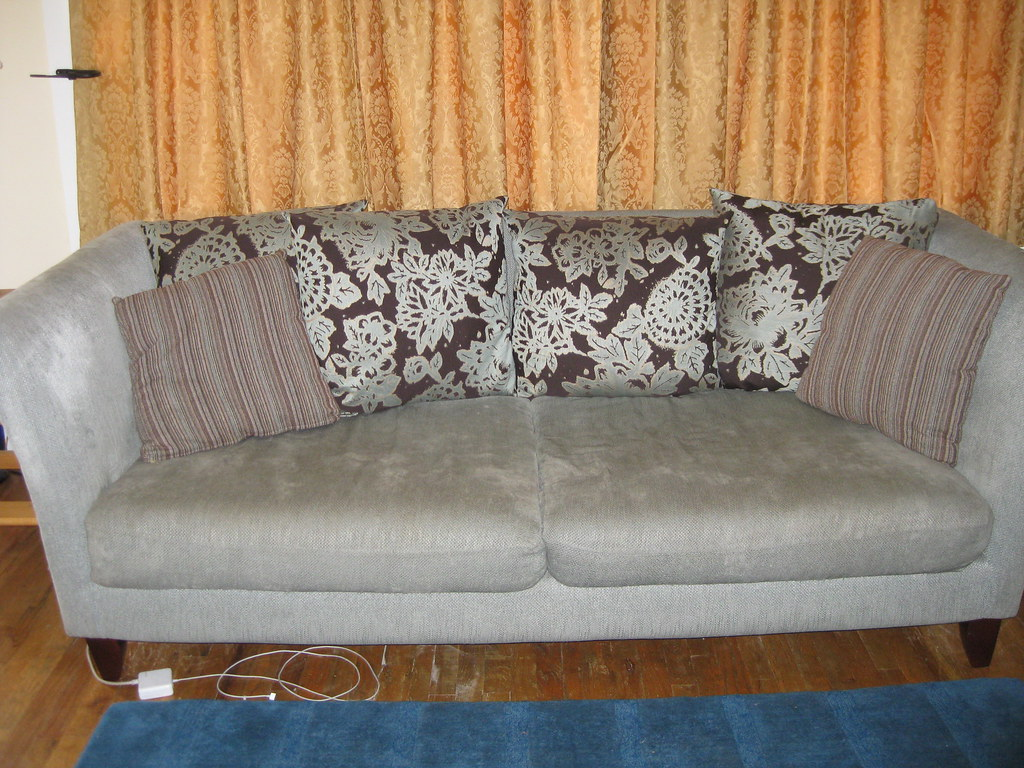sofa: (1, 172, 1024, 656)
